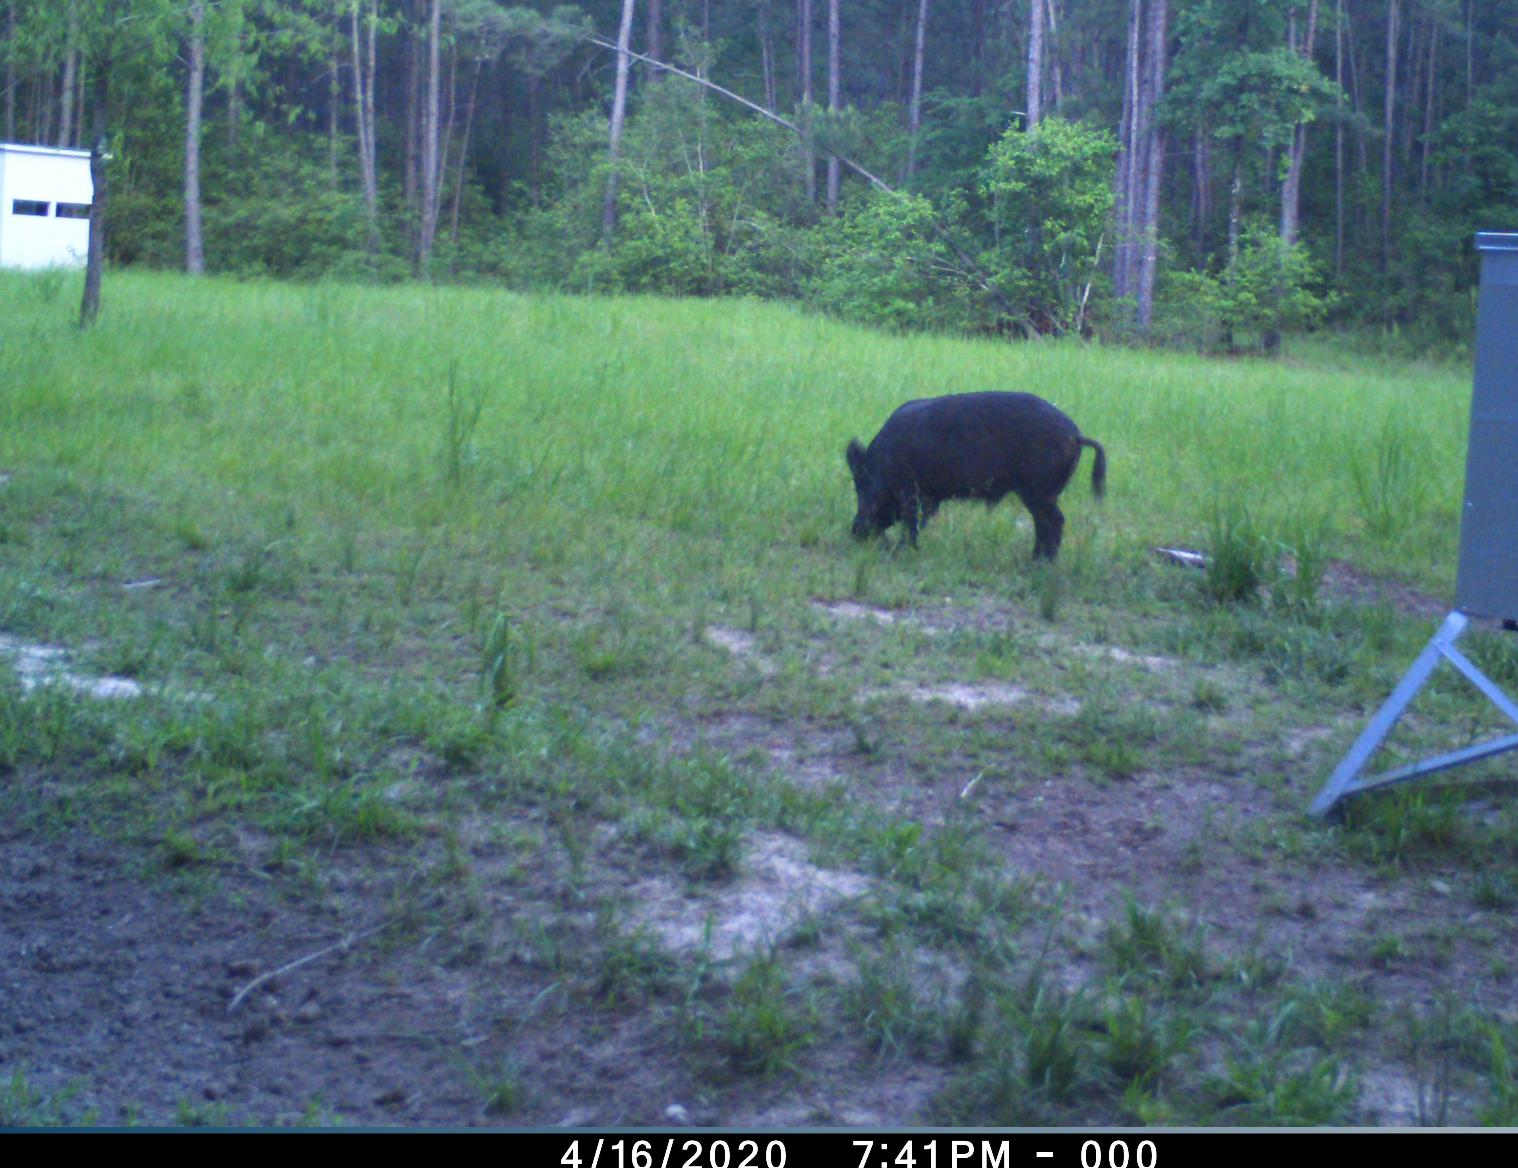Hog: (833, 386, 1125, 578)
